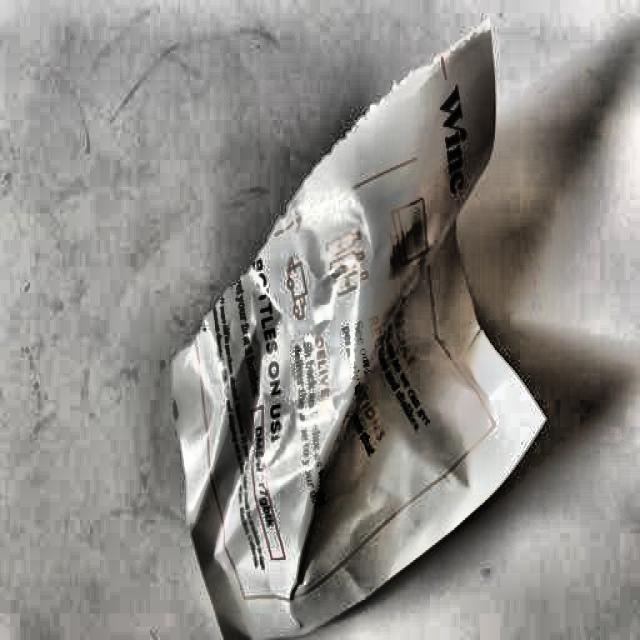paper: (165, 13, 536, 631)
